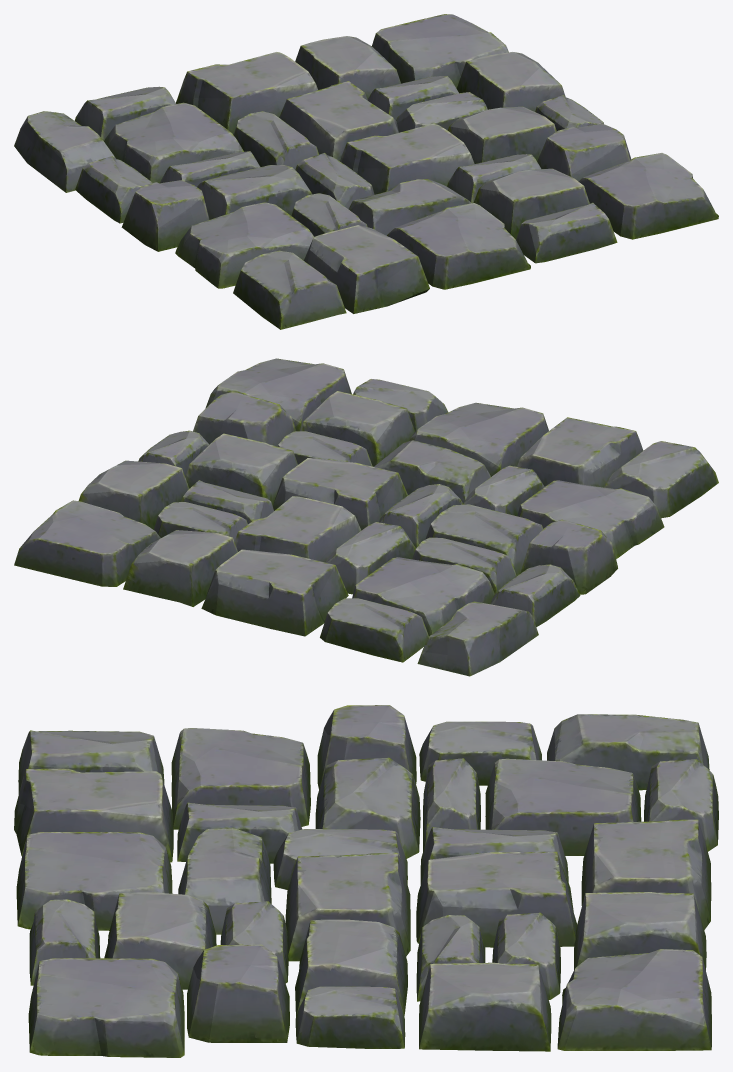
File: RockPath_Square_Wide.glb
The picture shows the model from 3 angles, top to bottom: view 1: azimuth 30°, elevation 25°; view 2: azimuth 150°, elevation 25°; view 3: azimuth 270°, elevation 25°; orthographic projection. The views are drawn at different scales.
Visible parts, largest first — view 1: RockPath_Square_Wide; view 2: RockPath_Square_Wide; view 3: RockPath_Square_Wide.
Part boxes in pixels (bbox=[...]): RockPath_Square_Wide: bbox=[14, 14, 718, 329]; RockPath_Square_Wide: bbox=[14, 358, 718, 676]; RockPath_Square_Wide: bbox=[14, 705, 718, 1057].
Bounding box in the file's own units: 2.05 × 0.1763 × 1.99.
1 material, 1 textured.
